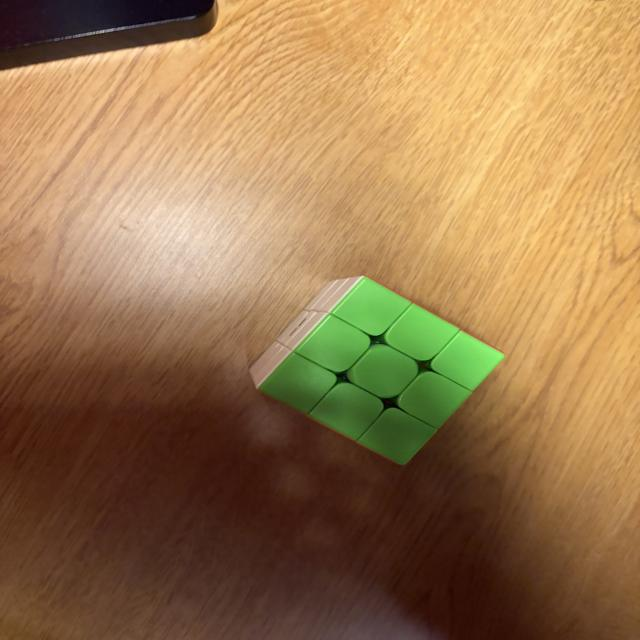Rubiks Cube: (249, 275, 505, 466)
